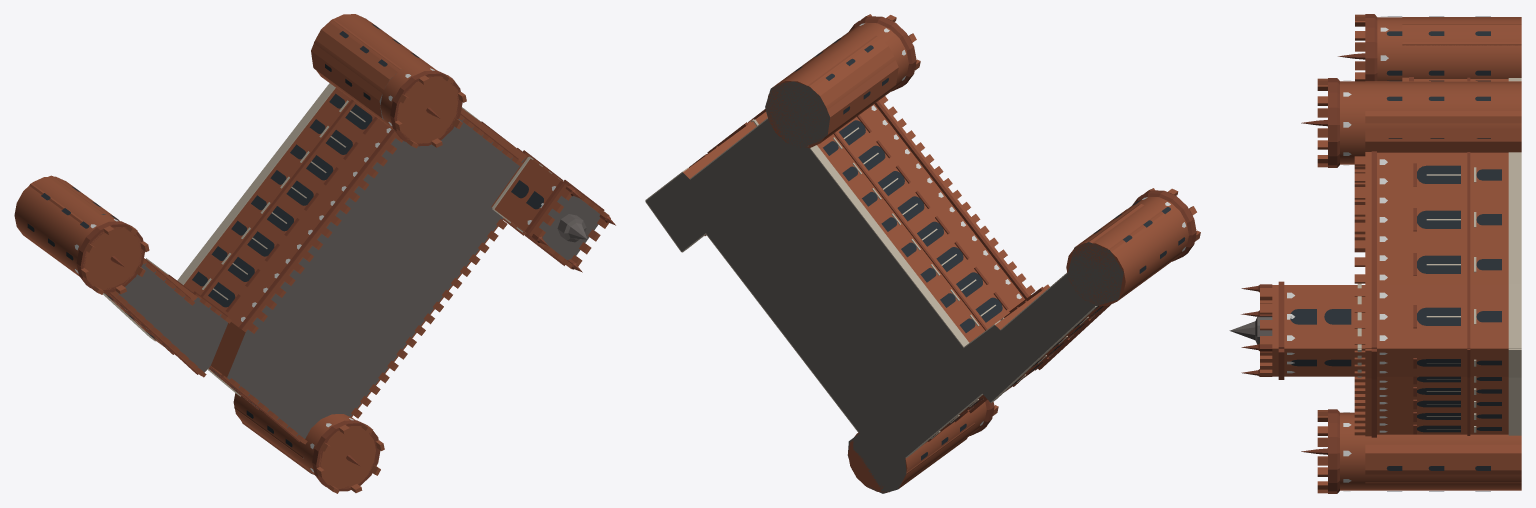
The model's file is castell-tres-dragons.glb.
3 renders of one model, left to right at view 1: azimuth 30°, elevation 25°; view 2: azimuth 150°, elevation 25°; view 3: azimuth 270°, elevation 25°, orthographic. The views are drawn at different scales.
Visible parts, largest first — view 1: castell-tres-dragons; view 2: castell-tres-dragons; view 3: castell-tres-dragons.
Boxes of the visible parts, x1,y1,x2,y2 form: castell-tres-dragons: (14,14,615,493); castell-tres-dragons: (645,14,1200,493); castell-tres-dragons: (1229,14,1521,493).
Size of the model in its own units: 68.63 by 53.63 by 31.4.
